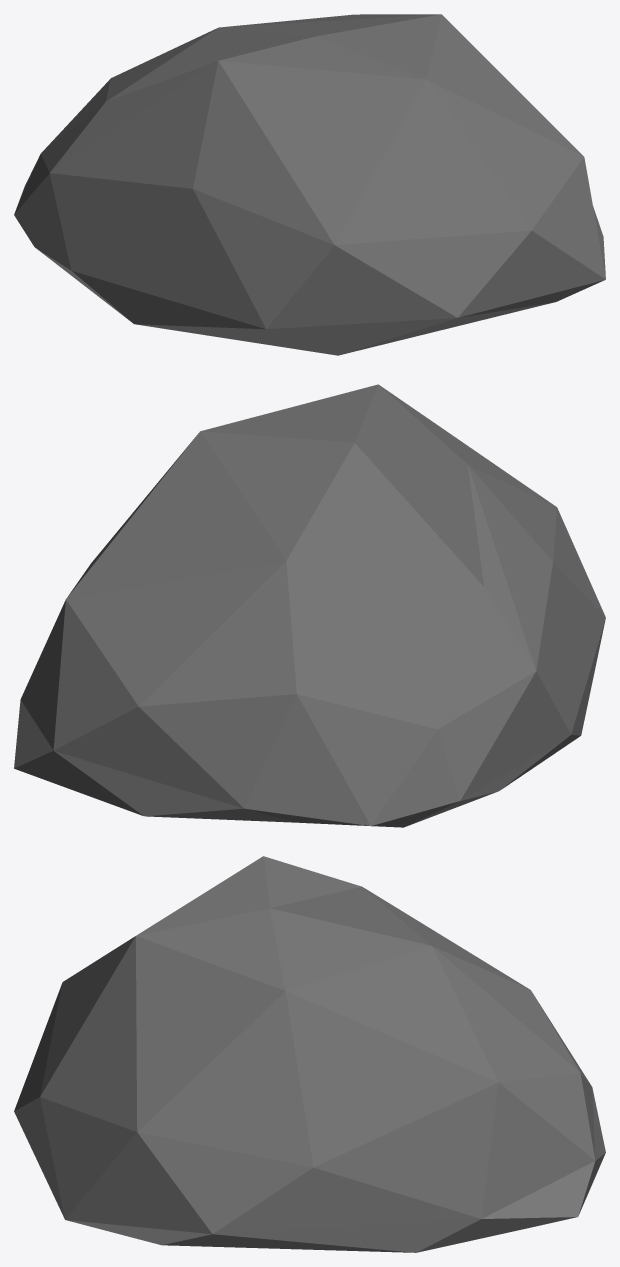
The model's file is Rock_05.fbx.
3 views of the same model, one above another, from view 1: azimuth 30°, elevation 25°; view 2: azimuth 150°, elevation 25°; view 3: azimuth 270°, elevation 25° (orthographic). The views are drawn at different scales.
Parts seen in each view (by area): view 1: Rock_05; view 2: Rock_05; view 3: Rock_05.
Part boxes in pixels (bbox=[...]): Rock_05: bbox=[14, 14, 605, 355]; Rock_05: bbox=[14, 384, 605, 827]; Rock_05: bbox=[14, 856, 605, 1252].
Bounding box in the file's own units: 5.03 × 2.44 × 5.44.
